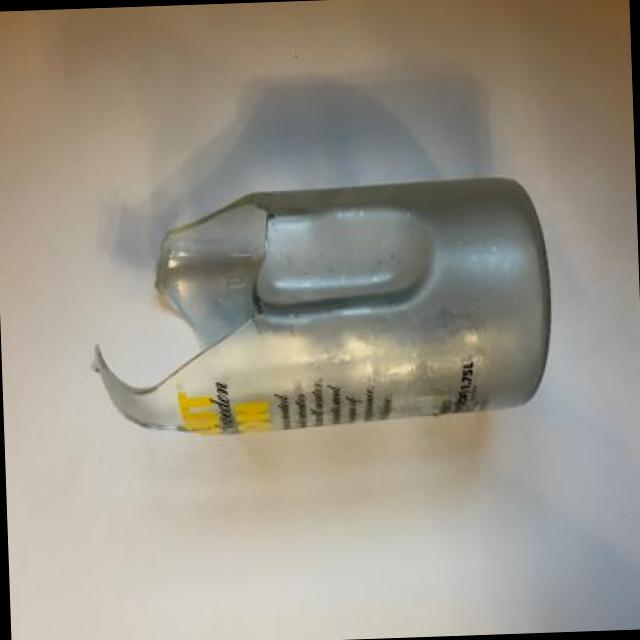chai_thuy_tinh: (92, 176, 553, 438)
